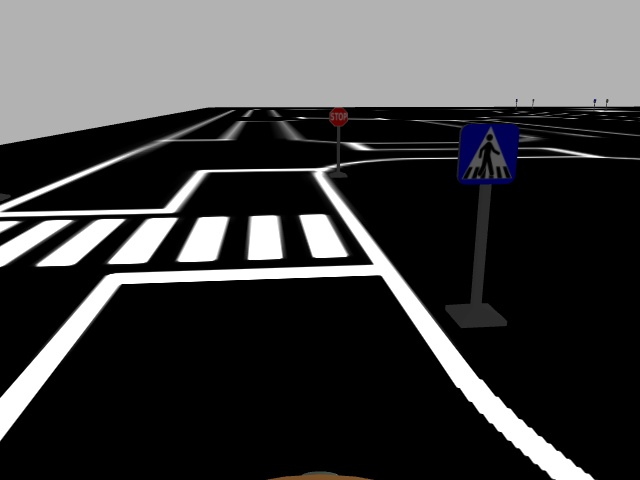crosswalk: (458, 122, 521, 187)
stop: (327, 105, 349, 127)
